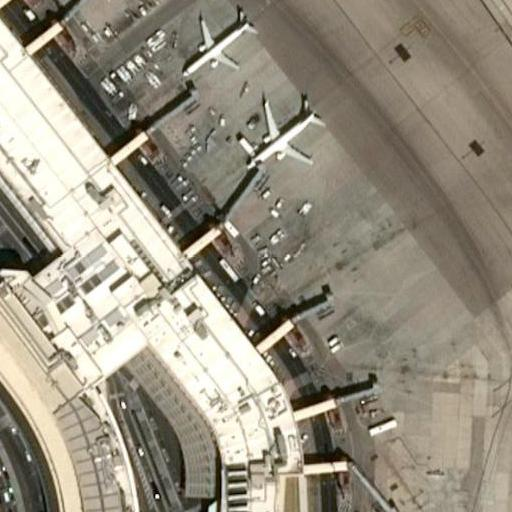Aircraft: (237, 96, 324, 172), (179, 5, 257, 77)
